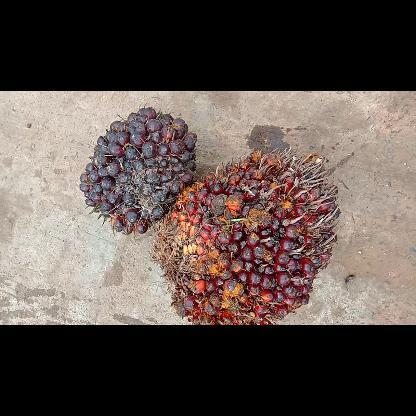TBS masak: (152, 148, 338, 324)
TBS mentah: (78, 104, 198, 233)
